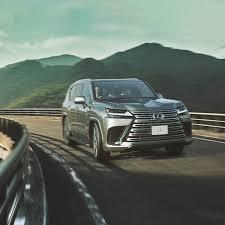lexus: (147, 110, 171, 122)
